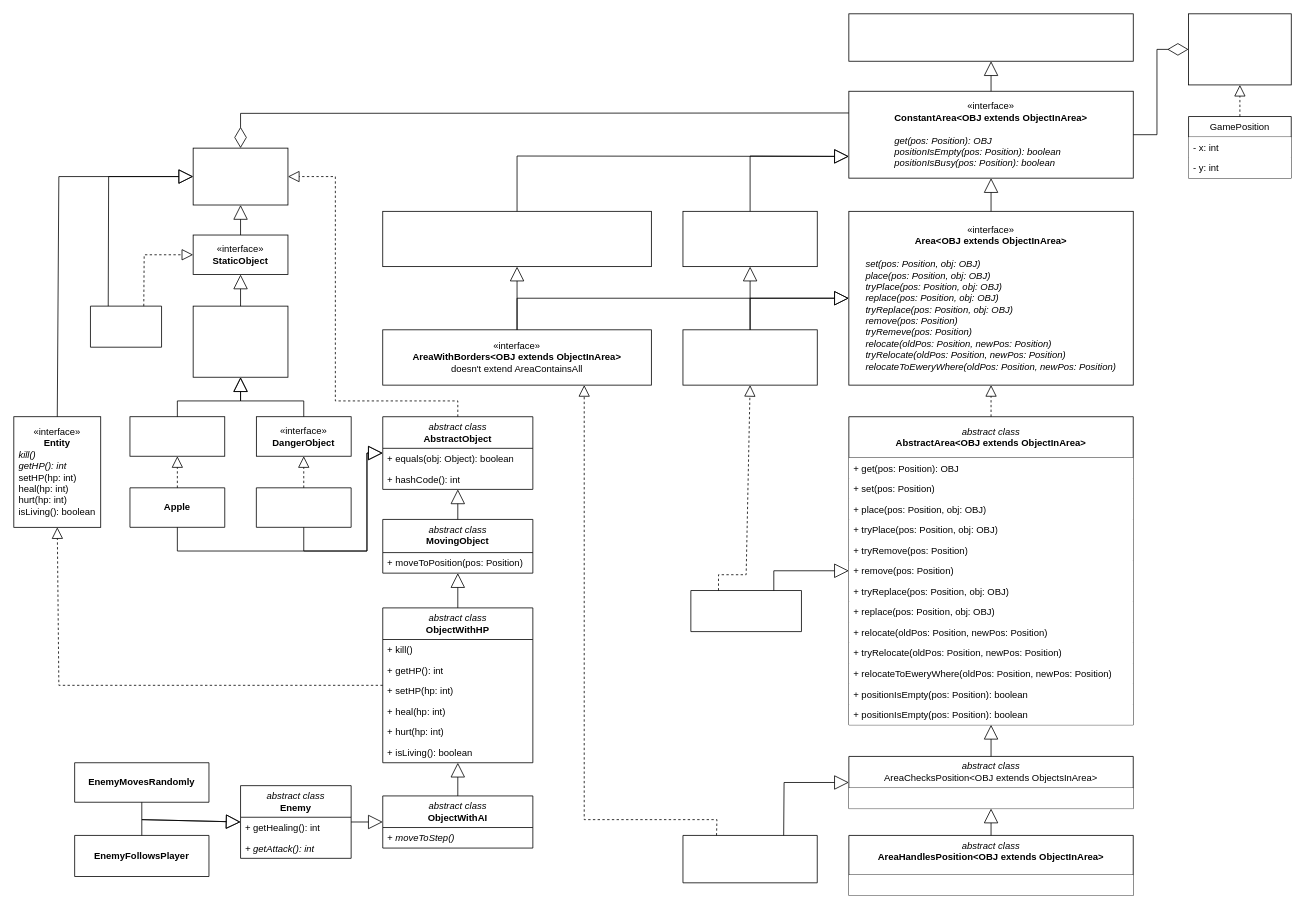
Some shapes in this 1305 by 912 pixel diagram are drawn without their labels. The centre of each missing label's shape, as x and y in pixels:
"# checkPosition(pos: Position)" belongs at (990,798).
"# handlesPosition(pos: Position): Position" belongs at (990,885).
"AreaWithBorders" belongs at (749,859).
"Fire" belongs at (303,507).
"GameArea" belongs at (745,611).
"Stone" belongs at (126,326).
"«interface» AreaContainsAll doesn't extend ConstandAreaWithBorders" belongs at (749,357).
"«interface» ConstantAreaContansAll Extends ConstantArea<ObjectInArea>" belongs at (749,239).
"«interface» ConstantAreaWithBorders<OBJ extends ObjectInArea>" belongs at (516,239).
"«interface» HealingObject" belongs at (177,436).
"«interface» Iterable<Position >" belongs at (990,37).
"«interface» ObjectInArea getChar(): char" belongs at (240,176).
"«interface» PassableObject + getDamage(): int + getHealing(): int" belongs at (240,341).
"«interface» Position getX():int getY():int" belongs at (1239,49).
